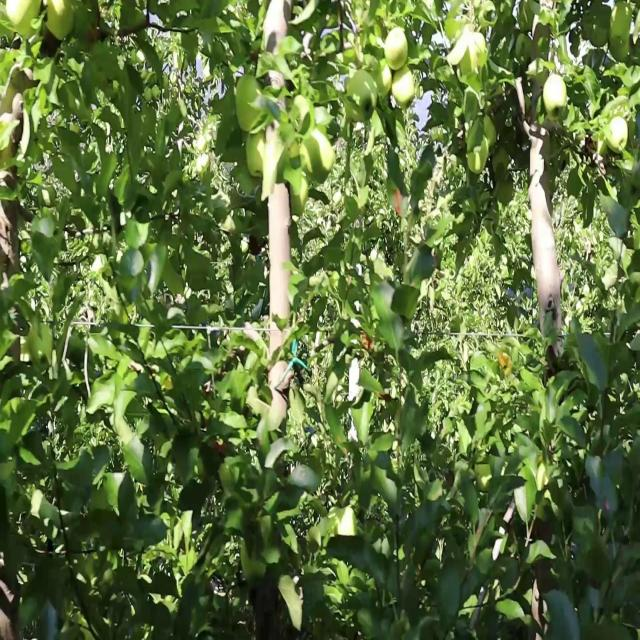apple: (304, 127, 336, 183), (460, 28, 488, 76), (536, 255, 563, 304), (264, 8, 291, 55), (248, 127, 272, 178), (48, 0, 76, 41), (384, 28, 409, 71), (544, 78, 569, 121), (268, 362, 291, 404), (0, 113, 18, 162), (392, 71, 415, 108), (608, 113, 630, 151), (292, 177, 311, 219), (269, 383, 289, 421), (468, 142, 488, 176), (376, 63, 392, 100), (496, 177, 516, 206), (444, 14, 464, 43), (269, 391, 288, 421), (492, 149, 511, 178), (500, 348, 513, 377), (392, 191, 404, 219), (360, 334, 376, 352), (212, 440, 227, 455)
